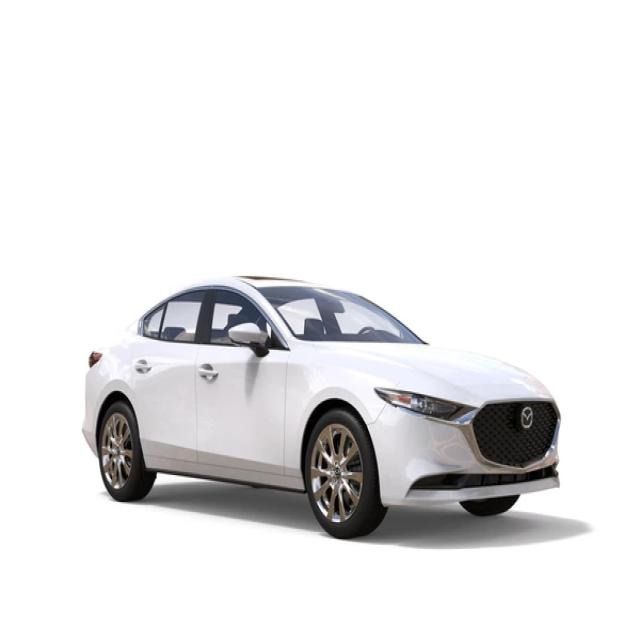mazda: (518, 406, 533, 427)
